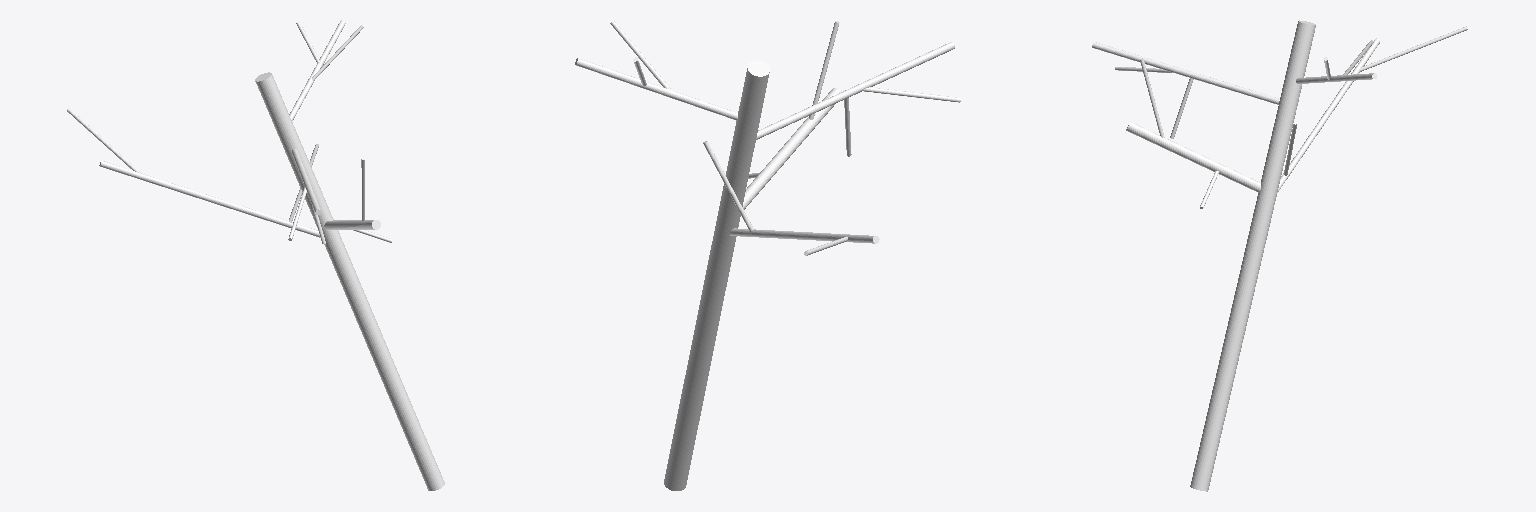
URDF robot description (tree_14.urdf):
<?xml version='1.0' encoding='UTF-8'?>
<robot name="tree_14.urdf">
  <link name="branch_0">
    <inertial>
      <origin xyz="0.0 0.0 0.0" rpy="0.0 -0.0 0.0"/>
      <mass value="1.0"/>
      <inertia ixx="1.0" ixy="0.0" ixz="0.0" iyy="1.0" iyz="0.0" izz="1.0"/>
    </inertial>
    <visual name="branch_0_visual">
      <geometry>
        <cylinder radius="0.18889285569404268" length="9.792482386738676"/>
      </geometry>
      <material name="branch_material"/>
      <origin xyz="-1.4291185530628958 1.0959096515218028 4.552996817552103" rpy="-2.2025125247076203e-17 0.3766653752046403 2.4873988409982837"/>
    </visual>
    <collision name="branch_0_collision">
      <geometry>
        <cylinder radius="0.18889285569404268" length="9.792482386738676"/>
      </geometry>
      <origin xyz="-1.4291185530628958 1.0959096515218028 4.552996817552103" rpy="-2.2025125247076203e-17 0.3766653752046403 2.4873988409982837"/>
    </collision>
  </link>
  <link name="branch_1">
    <inertial>
      <origin xyz="0.0 0.0 0.0" rpy="0.0 -0.0 0.0"/>
      <mass value="1.0"/>
      <inertia ixx="1.0" ixy="0.0" ixz="0.0" iyy="1.0" iyz="0.0" izz="1.0"/>
    </inertial>
    <visual name="branch_1_visual">
      <geometry>
        <cylinder radius="0.0650057137600844" length="4.336082309955457"/>
      </geometry>
      <material name="branch_material"/>
      <origin xyz="0.0 0.0 0.0" rpy="0.0 -0.0 0.0"/>
    </visual>
    <collision name="branch_1_collision">
      <geometry>
        <cylinder radius="0.0650057137600844" length="4.336082309955457"/>
      </geometry>
      <origin xyz="0.0 0.0 0.0" rpy="0.0 -0.0 0.0"/>
    </collision>
  </link>
  <link name="branch_2">
    <inertial>
      <origin xyz="0.0 0.0 0.0" rpy="0.0 -0.0 0.0"/>
      <mass value="1.0"/>
      <inertia ixx="1.0" ixy="0.0" ixz="0.0" iyy="1.0" iyz="0.0" izz="1.0"/>
    </inertial>
    <visual name="branch_2_visual">
      <geometry>
        <cylinder radius="0.04" length="1.8163476132301142"/>
      </geometry>
      <material name="branch_material"/>
      <origin xyz="0.0 0.0 0.0" rpy="0.0 -0.0 0.0"/>
    </visual>
    <collision name="branch_2_collision">
      <geometry>
        <cylinder radius="0.04" length="1.8163476132301142"/>
      </geometry>
      <origin xyz="0.0 0.0 0.0" rpy="0.0 -0.0 0.0"/>
    </collision>
  </link>
  <link name="branch_3">
    <inertial>
      <origin xyz="0.0 0.0 0.0" rpy="0.0 -0.0 0.0"/>
      <mass value="1.0"/>
      <inertia ixx="1.0" ixy="0.0" ixz="0.0" iyy="1.0" iyz="0.0" izz="1.0"/>
    </inertial>
    <visual name="branch_3_visual">
      <geometry>
        <cylinder radius="0.04" length="1.401904391339609"/>
      </geometry>
      <material name="branch_material"/>
      <origin xyz="0.0 0.0 0.0" rpy="0.0 -0.0 0.0"/>
    </visual>
    <collision name="branch_3_collision">
      <geometry>
        <cylinder radius="0.04" length="1.401904391339609"/>
      </geometry>
      <origin xyz="0.0 0.0 0.0" rpy="0.0 -0.0 0.0"/>
    </collision>
  </link>
  <link name="branch_4">
    <inertial>
      <origin xyz="0.0 0.0 0.0" rpy="0.0 -0.0 0.0"/>
      <mass value="1.0"/>
      <inertia ixx="1.0" ixy="0.0" ixz="0.0" iyy="1.0" iyz="0.0" izz="1.0"/>
    </inertial>
    <visual name="branch_4_visual">
      <geometry>
        <cylinder radius="0.10189343031724125" length="3.1411635496945034"/>
      </geometry>
      <material name="branch_material"/>
      <origin xyz="0.0 0.0 0.0" rpy="0.0 -0.0 0.0"/>
    </visual>
    <collision name="branch_4_collision">
      <geometry>
        <cylinder radius="0.10189343031724125" length="3.1411635496945034"/>
      </geometry>
      <origin xyz="0.0 0.0 0.0" rpy="0.0 -0.0 0.0"/>
    </collision>
  </link>
  <link name="branch_5">
    <inertial>
      <origin xyz="0.0 0.0 0.0" rpy="0.0 -0.0 0.0"/>
      <mass value="1.0"/>
      <inertia ixx="1.0" ixy="0.0" ixz="0.0" iyy="1.0" iyz="0.0" izz="1.0"/>
    </inertial>
    <visual name="branch_5_visual">
      <geometry>
        <cylinder radius="0.0401479732010969" length="1.0930201288079724"/>
      </geometry>
      <material name="branch_material"/>
      <origin xyz="0.0 0.0 0.0" rpy="0.0 -0.0 0.0"/>
    </visual>
    <collision name="branch_5_collision">
      <geometry>
        <cylinder radius="0.0401479732010969" length="1.0930201288079724"/>
      </geometry>
      <origin xyz="0.0 0.0 0.0" rpy="0.0 -0.0 0.0"/>
    </collision>
  </link>
  <link name="branch_6">
    <inertial>
      <origin xyz="0.0 0.0 0.0" rpy="0.0 -0.0 0.0"/>
      <mass value="1.0"/>
      <inertia ixx="1.0" ixy="0.0" ixz="0.0" iyy="1.0" iyz="0.0" izz="1.0"/>
    </inertial>
    <visual name="branch_6_visual">
      <geometry>
        <cylinder radius="0.04" length="1.8309398715667198"/>
      </geometry>
      <material name="branch_material"/>
      <origin xyz="0.0 0.0 0.0" rpy="0.0 -0.0 0.0"/>
    </visual>
    <collision name="branch_6_collision">
      <geometry>
        <cylinder radius="0.04" length="1.8309398715667198"/>
      </geometry>
      <origin xyz="0.0 0.0 0.0" rpy="0.0 -0.0 0.0"/>
    </collision>
  </link>
  <link name="branch_7">
    <inertial>
      <origin xyz="0.0 0.0 0.0" rpy="0.0 -0.0 0.0"/>
      <mass value="1.0"/>
      <inertia ixx="1.0" ixy="0.0" ixz="0.0" iyy="1.0" iyz="0.0" izz="1.0"/>
    </inertial>
    <visual name="branch_7_visual">
      <geometry>
        <cylinder radius="0.06298584506135557" length="3.091051475605657"/>
      </geometry>
      <material name="branch_material"/>
      <origin xyz="0.0 0.0 0.0" rpy="0.0 -0.0 0.0"/>
    </visual>
    <collision name="branch_7_collision">
      <geometry>
        <cylinder radius="0.06298584506135557" length="3.091051475605657"/>
      </geometry>
      <origin xyz="0.0 0.0 0.0" rpy="0.0 -0.0 0.0"/>
    </collision>
  </link>
  <link name="branch_8">
    <inertial>
      <origin xyz="0.0 0.0 0.0" rpy="0.0 -0.0 0.0"/>
      <mass value="1.0"/>
      <inertia ixx="1.0" ixy="0.0" ixz="0.0" iyy="1.0" iyz="0.0" izz="1.0"/>
    </inertial>
    <visual name="branch_8_visual">
      <geometry>
        <cylinder radius="0.04" length="0.9864968161247668"/>
      </geometry>
      <material name="branch_material"/>
      <origin xyz="0.0 0.0 0.0" rpy="0.0 -0.0 0.0"/>
    </visual>
    <collision name="branch_8_collision">
      <geometry>
        <cylinder radius="0.04" length="0.9864968161247668"/>
      </geometry>
      <origin xyz="0.0 0.0 0.0" rpy="0.0 -0.0 0.0"/>
    </collision>
  </link>
  <link name="branch_9">
    <inertial>
      <origin xyz="0.0 0.0 0.0" rpy="0.0 -0.0 0.0"/>
      <mass value="1.0"/>
      <inertia ixx="1.0" ixy="0.0" ixz="0.0" iyy="1.0" iyz="0.0" izz="1.0"/>
    </inertial>
    <visual name="branch_9_visual">
      <geometry>
        <cylinder radius="0.04" length="1.5680660281097565"/>
      </geometry>
      <material name="branch_material"/>
      <origin xyz="0.0 0.0 0.0" rpy="0.0 -0.0 0.0"/>
    </visual>
    <collision name="branch_9_collision">
      <geometry>
        <cylinder radius="0.04" length="1.5680660281097565"/>
      </geometry>
      <origin xyz="0.0 0.0 0.0" rpy="0.0 -0.0 0.0"/>
    </collision>
  </link>
  <link name="branch_10">
    <inertial>
      <origin xyz="0.0 0.0 0.0" rpy="0.0 -0.0 0.0"/>
      <mass value="1.0"/>
      <inertia ixx="1.0" ixy="0.0" ixz="0.0" iyy="1.0" iyz="0.0" izz="1.0"/>
    </inertial>
    <visual name="branch_10_visual">
      <geometry>
        <cylinder radius="0.06469868640915469" length="5.082265728098779"/>
      </geometry>
      <material name="branch_material"/>
      <origin xyz="0.0 0.0 0.0" rpy="0.0 -0.0 0.0"/>
    </visual>
    <collision name="branch_10_collision">
      <geometry>
        <cylinder radius="0.06469868640915469" length="5.082265728098779"/>
      </geometry>
      <origin xyz="0.0 0.0 0.0" rpy="0.0 -0.0 0.0"/>
    </collision>
  </link>
  <link name="branch_11">
    <inertial>
      <origin xyz="0.0 0.0 0.0" rpy="0.0 -0.0 0.0"/>
      <mass value="1.0"/>
      <inertia ixx="1.0" ixy="0.0" ixz="0.0" iyy="1.0" iyz="0.0" izz="1.0"/>
    </inertial>
    <visual name="branch_11_visual">
      <geometry>
        <cylinder radius="0.04" length="2.4100388670013317"/>
      </geometry>
      <material name="branch_material"/>
      <origin xyz="0.0 0.0 0.0" rpy="0.0 -0.0 0.0"/>
    </visual>
    <collision name="branch_11_collision">
      <geometry>
        <cylinder radius="0.04" length="2.4100388670013317"/>
      </geometry>
      <origin xyz="0.0 0.0 0.0" rpy="0.0 -0.0 0.0"/>
    </collision>
  </link>
  <link name="branch_12">
    <inertial>
      <origin xyz="0.0 0.0 0.0" rpy="0.0 -0.0 0.0"/>
      <mass value="1.0"/>
      <inertia ixx="1.0" ixy="0.0" ixz="0.0" iyy="1.0" iyz="0.0" izz="1.0"/>
    </inertial>
    <visual name="branch_12_visual">
      <geometry>
        <cylinder radius="0.04" length="1.7644870028502502"/>
      </geometry>
      <material name="branch_material"/>
      <origin xyz="0.0 0.0 0.0" rpy="0.0 -0.0 0.0"/>
    </visual>
    <collision name="branch_12_collision">
      <geometry>
        <cylinder radius="0.04" length="1.7644870028502502"/>
      </geometry>
      <origin xyz="0.0 0.0 0.0" rpy="0.0 -0.0 0.0"/>
    </collision>
  </link>
  <joint name="joint_0_1" type="fixed">
    <parent link="branch_0"/>
    <child link="branch_1"/>
    <axis xyz="1. 0. 0."/>
    <origin xyz="-3.2051616664093503 -0.16909517636914545 7.781305054519731" rpy="1.22790469611577 1.1856789827862897 -0.725151833448576"/>
  </joint>
  <joint name="joint_0_4" type="fixed">
    <parent link="branch_0"/>
    <child link="branch_4"/>
    <axis xyz="1. 0. 0."/>
    <origin xyz="-2.0444917827819635 -0.022603648671604706 6.439418694663521" rpy="0.6441485880876653 1.0428148442612744 -1.010090439004595"/>
  </joint>
  <joint name="joint_0_7" type="fixed">
    <parent link="branch_0"/>
    <child link="branch_7"/>
    <axis xyz="1. 0. 0."/>
    <origin xyz="-1.3373578119760325 2.7403233288881554 8.563272289396984" rpy="-0.7128645060923806 1.032250611723901 -0.17252062557585113"/>
  </joint>
  <joint name="joint_0_10" type="fixed">
    <parent link="branch_0"/>
    <child link="branch_10"/>
    <axis xyz="1. 0. 0."/>
    <origin xyz="-3.8260184940925317 2.473654482216191 6.399981892156082" rpy="0.2016127834965709 1.2107453413405884 2.8561767822706847"/>
  </joint>
  <joint name="joint_1_2" type="fixed">
    <parent link="branch_0"/>
    <child link="branch_2"/>
    <axis xyz="1. 0. 0."/>
    <origin xyz="-3.8760265219138756 -1.0269160625861171 7.573999450368533" rpy="-1.9615629270273445 0.82217022528944 2.120427309110094"/>
  </joint>
  <joint name="joint_1_3" type="fixed">
    <parent link="branch_0"/>
    <child link="branch_3"/>
    <axis xyz="1. 0. 0."/>
    <origin xyz="-3.091550084322779 -0.3410785307960605 7.114766560710168" rpy="2.887222637615295 0.22802032959107035 1.1386460024945528"/>
  </joint>
  <joint name="joint_4_5" type="fixed">
    <parent link="branch_0"/>
    <child link="branch_5"/>
    <axis xyz="1. 0. 0."/>
    <origin xyz="-1.5106791238083037 0.2215886322193318 6.031967699000616" rpy="2.0291492281847363 0.4163014959956382 1.412120553163606"/>
  </joint>
  <joint name="joint_4_6" type="fixed">
    <parent link="branch_0"/>
    <child link="branch_6"/>
    <axis xyz="1. 0. 0."/>
    <origin xyz="-2.285160283323006 -0.9393313781966676 7.622926166271132" rpy="-0.12894389282323893 -0.26310919491065915 1.5046629879573825"/>
  </joint>
  <joint name="joint_7_8" type="fixed">
    <parent link="branch_0"/>
    <child link="branch_8"/>
    <axis xyz="1. 0. 0."/>
    <origin xyz="-1.188100162497207 3.2145240602655254 9.062471307599907" rpy="0.7016600678382624 0.013764906226099055 -2.877246577419222"/>
  </joint>
  <joint name="joint_7_9" type="fixed">
    <parent link="branch_0"/>
    <child link="branch_9"/>
    <axis xyz="1. 0. 0."/>
    <origin xyz="-0.876347299903383 2.606183911628747 8.998966941467161" rpy="-0.849280413056012 -0.21309122092515187 -1.817206323924682"/>
  </joint>
  <joint name="joint_10_11" type="fixed">
    <parent link="branch_0"/>
    <child link="branch_11"/>
    <axis xyz="1. 0. 0."/>
    <origin xyz="-5.3889088468476265 4.315858431830152 7.323773303956121" rpy="-1.2525996465004319 0.18457057639763824 0.2741242238836267"/>
  </joint>
  <joint name="joint_10_12" type="fixed">
    <parent link="branch_0"/>
    <child link="branch_12"/>
    <axis xyz="1. 0. 0."/>
    <origin xyz="-2.101399028721579 1.853094171747807 6.624165881387387" rpy="-0.32855464978202864 0.36763131402100124 -0.5059503527274531"/>
  </joint>
  <material name="branch_material">
    <color rgba="1. 1. 1. 1."/>
  </material>
</robot>

--- What the picture shows (computed from the rendered views, not written in the file) ---
The picture shows the robot from 3 angles, left to right: view 1: azimuth 30°, elevation 25°; view 2: azimuth 150°, elevation 25°; view 3: azimuth 270°, elevation 25°; orthographic projection.
Model tree_14.urdf with 13 links and 12 joints (12 fixed), rooted at branch_0, posed every joint at zero.
Visible links, largest first — view 1: branch_0, branch_10, branch_7, branch_4; view 2: branch_0, branch_1, branch_4, branch_7, branch_10; view 3: branch_0, branch_4, branch_1, branch_10.
Link boxes in pixels (box(x1,y1,x2,y2)): branch_0: box(255, 72, 444, 490); branch_10: box(99, 161, 319, 237); branch_7: box(289, 20, 345, 120); branch_4: box(324, 220, 380, 229); branch_0: box(664, 60, 769, 490); branch_1: box(756, 42, 954, 139); branch_4: box(743, 88, 840, 209); branch_7: box(575, 58, 737, 120); branch_10: box(730, 228, 879, 243); branch_0: box(1190, 20, 1315, 491); branch_4: box(1126, 122, 1260, 192); branch_1: box(1092, 42, 1279, 104); branch_10: box(1277, 38, 1379, 192).
Size in the robot's own frame: 6.13 by 7.62 by 9.61 metres.
Geometry: primitives only (box / cylinder / sphere), no mesh files.